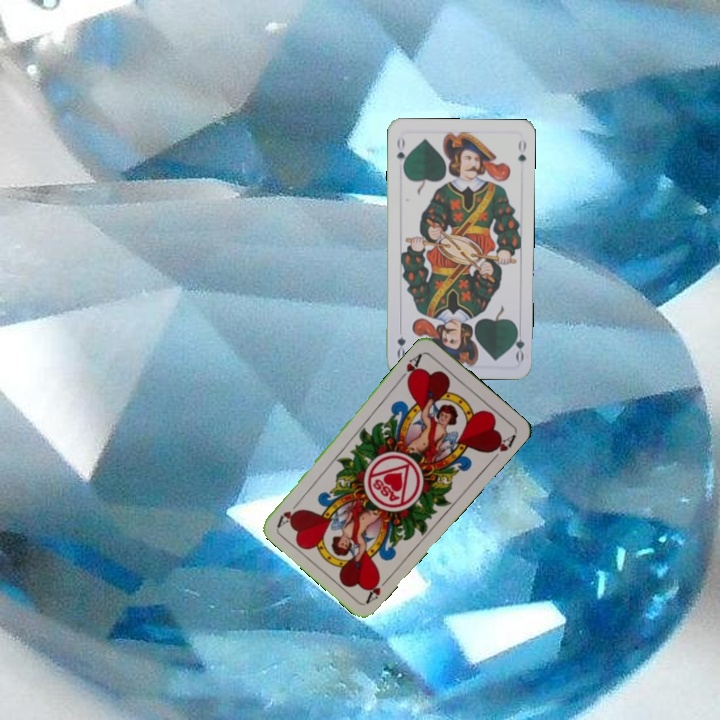GO: (508, 323, 527, 363), (392, 133, 410, 173)
HA: (362, 572, 394, 606), (395, 349, 425, 385)
